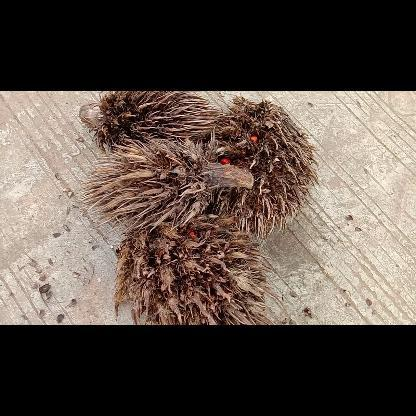Janjang kosong: (116, 226, 284, 324), (76, 148, 252, 226), (222, 96, 320, 232), (79, 93, 219, 144)
